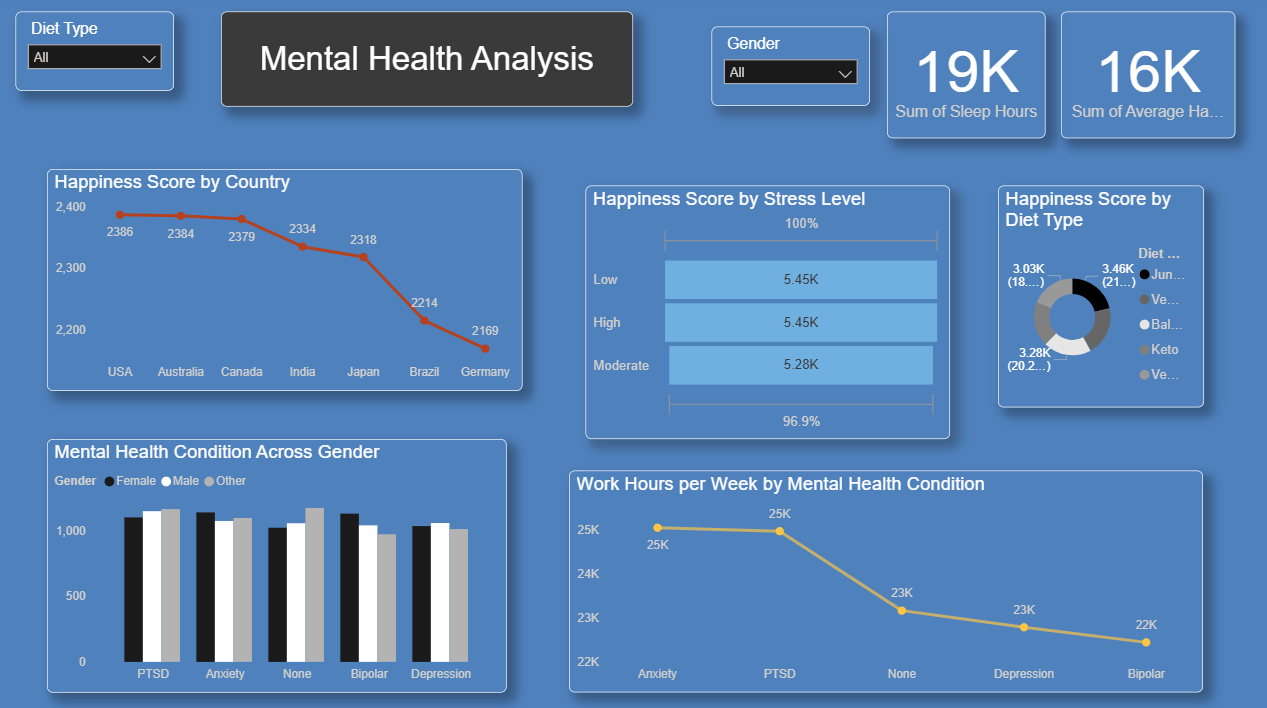

The page's visual inventory and layout, read from the dashboard file:
{"tool":"powerbi","page":{"name":"Page 1","canvas":[1280,720],"ordinal":0},"visuals":[{"type":"clusteredColumnChart","title":"Mental Health Condition Across Gender","fields":{"Category":["Mental_Health_Lifestyle_data.Mental Health Condition"],"Series":["Mental_Health_Lifestyle_data.Gender"],"Y":["Mental_Health_Lifestyle_data.Sum of Happiness Score average per Gender"]},"box":[48,448,464,256],"z":0},{"type":"card","fields":{"Values":["Sum(Mental_Health_Lifestyle_data.Average Happiness Score)"]},"box":[1072,16,176,128],"z":1000},{"type":"lineChart","title":" Work Hours per Week by Mental Health Condition","fields":{"Y":["Sum(Mental_Health_Lifestyle_data.Work Hours per Week)"],"Category":["Mental_Health_Lifestyle_data.Mental Health Condition"]},"box":[576,480,640,224],"z":2000},{"type":"card","fields":{"Values":["Sum(Mental_Health_Lifestyle_data.Sleep Hours)"]},"box":[896,16,160,128],"z":3000},{"type":"lineChart","title":"Happiness Score by Country","fields":{"Category":["Mental_Health_Lifestyle_data.Country"],"Y":["Sum(Mental_Health_Lifestyle_data.Happiness Score)"]},"box":[48,176,480,224],"z":4000},{"type":"slicer","fields":{"Values":["Mental_Health_Lifestyle_data.Diet Type"]},"box":[16,16,160,80],"z":6000},{"type":"donutChart","title":"Happiness Score by Diet Type","fields":{"Category":["Mental_Health_Lifestyle_data.Diet Type"],"Y":["Sum(Mental_Health_Lifestyle_data.Happiness Score)"]},"box":[1008,192,208,224],"z":7000},{"type":"shape","box":[224,16,416,96],"z":7001},{"type":"funnel","title":"Happiness Score by Stress Level","fields":{"Category":["Mental_Health_Lifestyle_data.Stress Level"],"Y":["Sum(Mental_Health_Lifestyle_data.Happiness Score)"]},"box":[592,192,368,256],"z":7002},{"type":"slicer","fields":{"Values":["Mental_Health_Lifestyle_data.Gender"]},"box":[720,32,160,80],"z":7003}]}

Visuals, with their boxes in screenshot pixels (x1, y1, x2, y2), scaled from the page's 1280x720 canvas onto the 1267x708 screenshot:
"Mental Health Condition Across Gender" clusteredColumnChart: 48 441 507 692
card - Sum(Mental_Health_Lifestyle_data.Average Happiness Score): 1061 16 1235 142
" Work Hours per Week by Mental Health Condition" lineChart: 570 472 1204 692
card - Sum(Mental_Health_Lifestyle_data.Sleep Hours): 887 16 1045 142
"Happiness Score by Country" lineChart: 48 173 523 393
slicer - Mental_Health_Lifestyle_data.Diet Type: 16 16 174 94
"Happiness Score by Diet Type" donutChart: 998 189 1204 409
shape: 222 16 634 110
"Happiness Score by Stress Level" funnel: 586 189 950 441
slicer - Mental_Health_Lifestyle_data.Gender: 713 31 871 110
